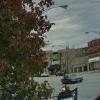Tree: (4, 0, 71, 71)
